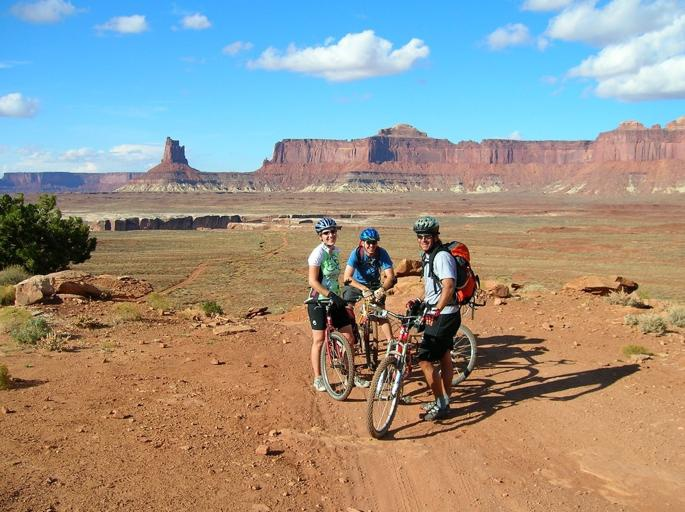non-vehicle: (355, 294, 476, 385), (367, 299, 438, 439), (312, 293, 353, 401)
